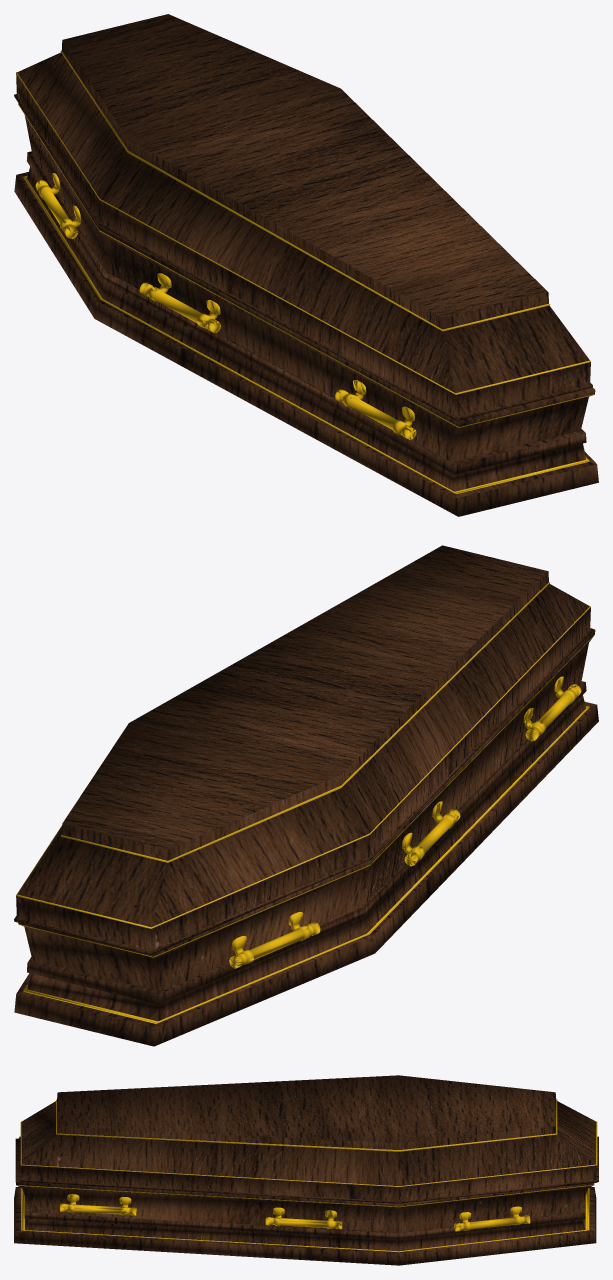
File: ItalianCoffin.fbx
The picture shows the model from 3 angles, top to bottom: view 1: azimuth 30°, elevation 25°; view 2: azimuth 150°, elevation 25°; view 3: azimuth 270°, elevation 25°; orthographic projection. The views are drawn at different scales.
Parts seen in each view (by area): view 1: Cover, Urn; view 2: Cover, Urn; view 3: Cover, Urn.
Part boxes in pixels (x1,y1,x2,y2): Cover: (14,14,592,420); Urn: (14,103,598,516); Cover: (14,545,592,954); Urn: (14,629,598,1046); Cover: (19,1075,598,1203); Urn: (14,1138,596,1265).
Size of the model in its own units: 160 by 92.63 by 440.
